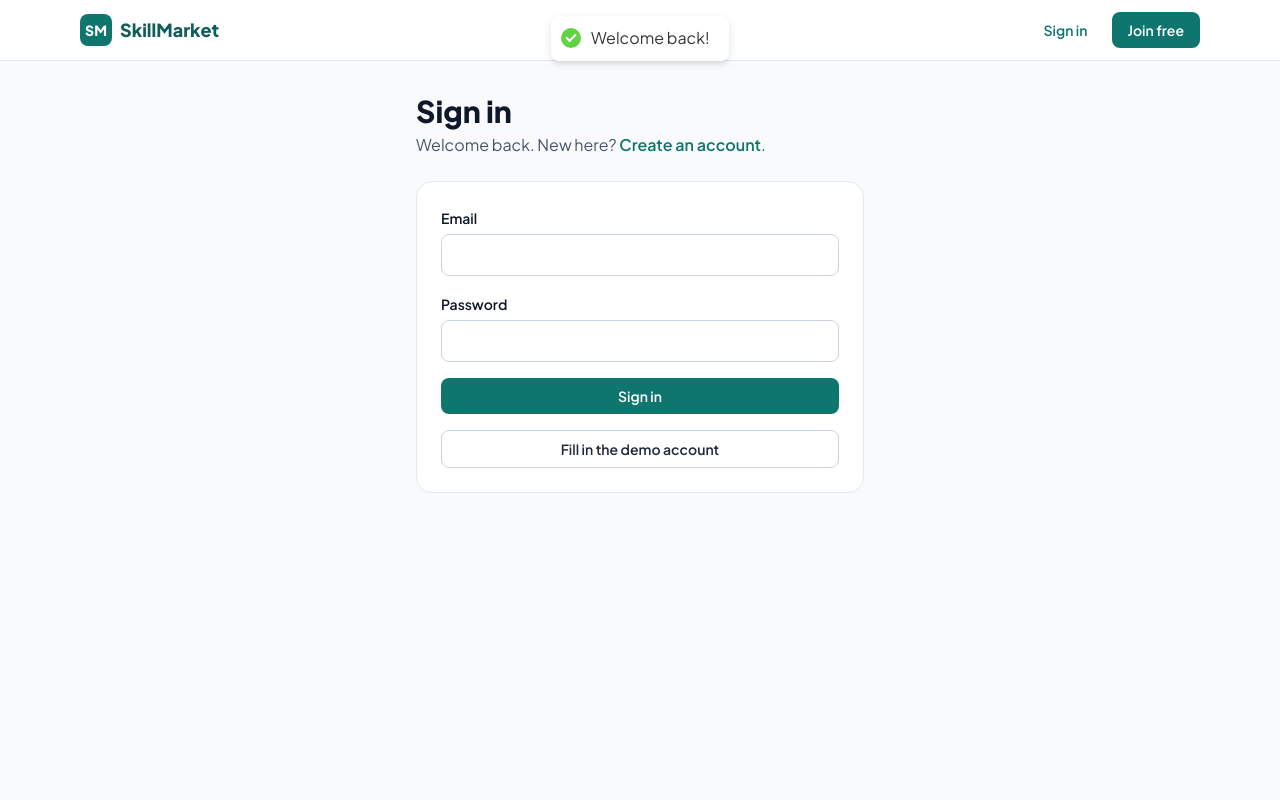
Test: authentication › signs in with the demo account and shows the personal dashboard
Click the button "Fill in the demo account" at {"x": 640, "y": 449}, box [441,430,839,468]
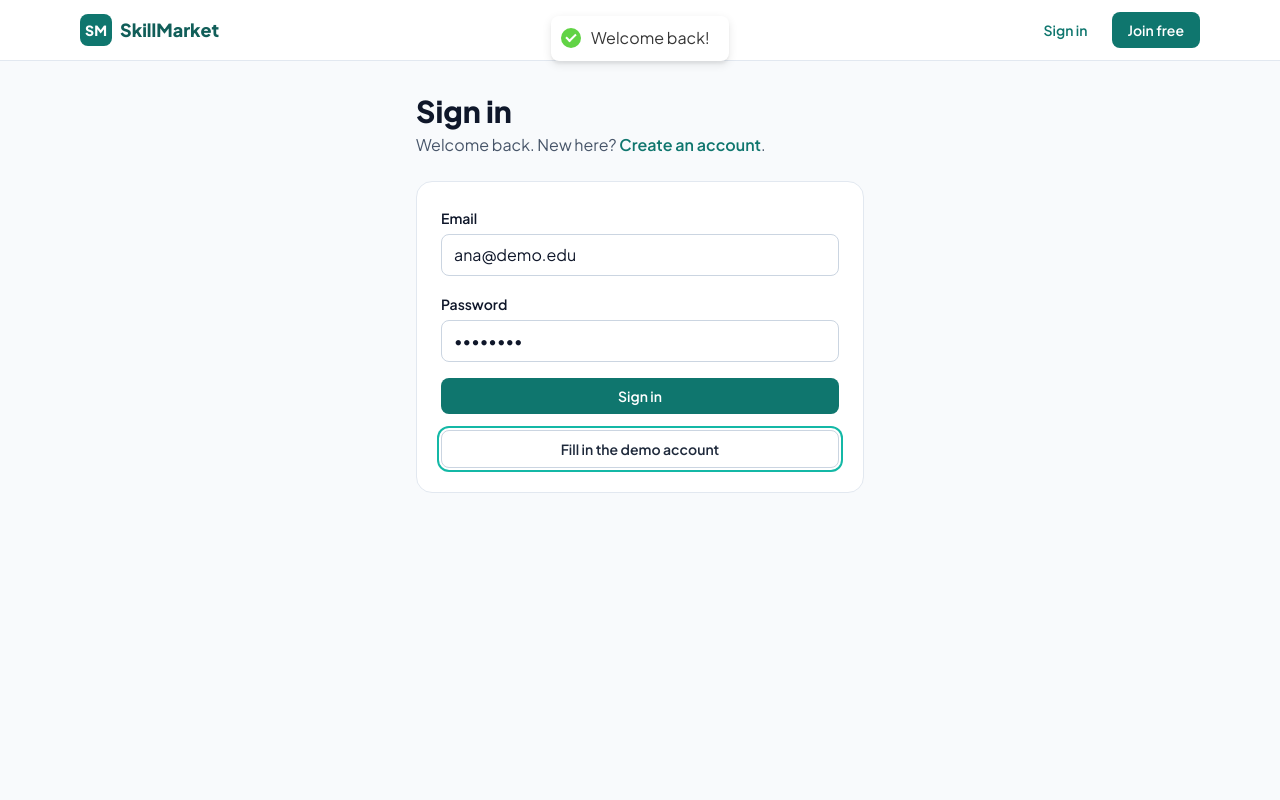
Click the button "Sign in" at {"x": 640, "y": 396}, box [441,378,839,414]
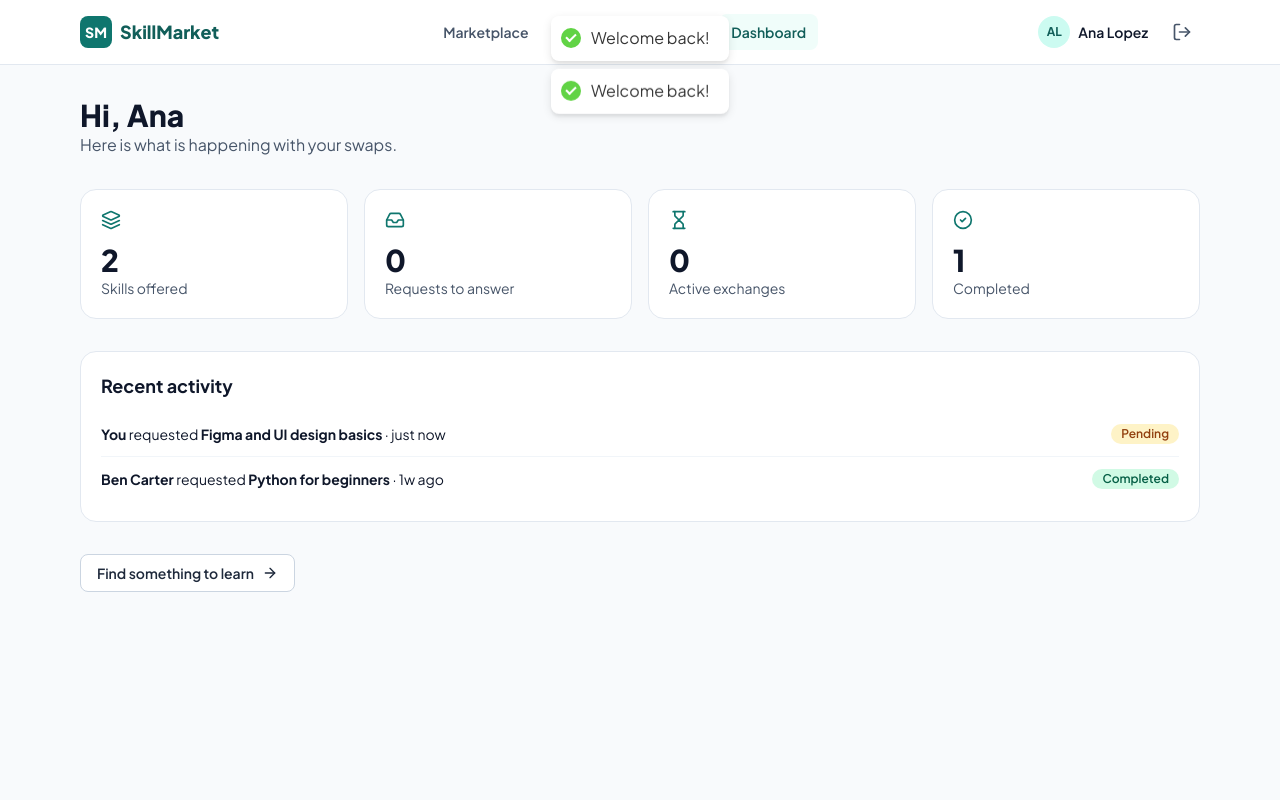
Now the heading "Hi, Ana" is shown, box [80,96,184,134]
Now the text "Skills offered" is shown, box [101,279,188,297]
